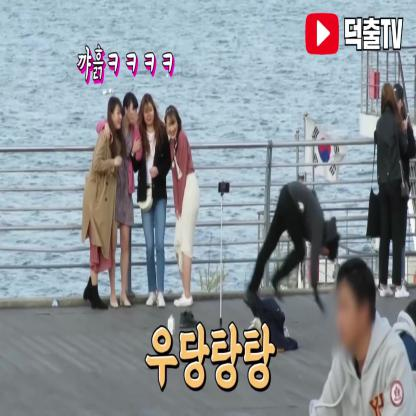Fall_Down: (242, 177, 342, 314)
